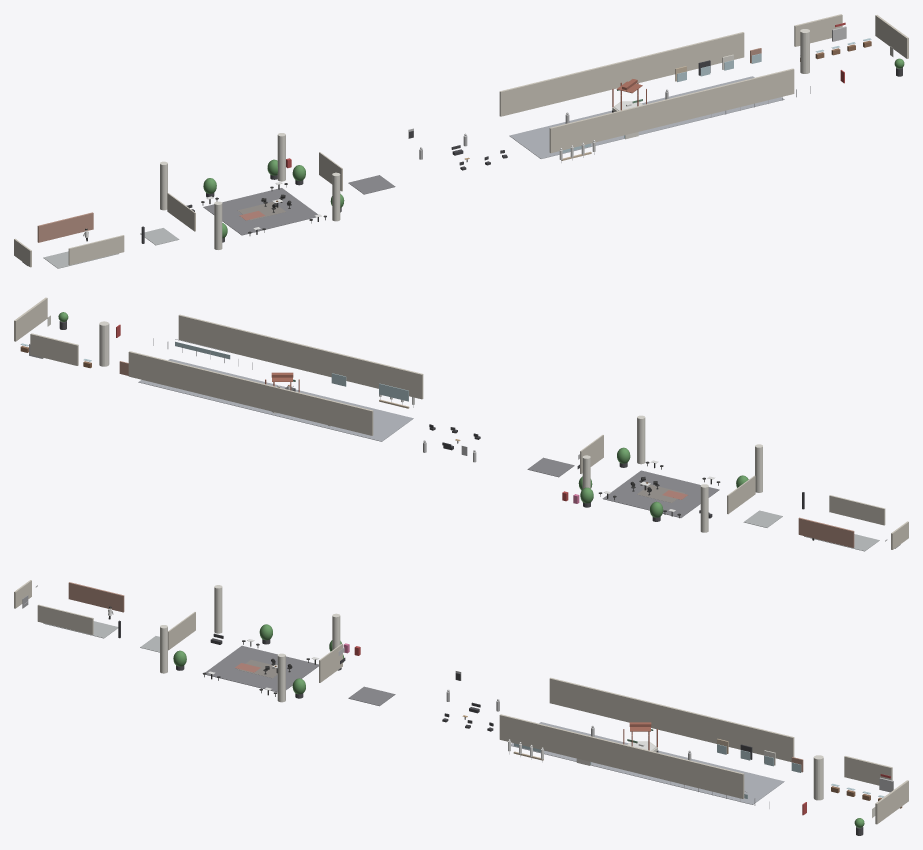
3 views of the same model, one above another, from view 1: azimuth 30°, elevation 25°; view 2: azimuth 150°, elevation 25°; view 3: azimuth 330°, elevation 25° (orthographic).
Visible parts, largest first — view 1: S03_south_wall, S03_north_wall, S02_floor, S03_floor, S01_white_wall, S01_brick_wall, S03_jewelry_wall, S03_jewelry_far_wall, S02_storefront_back, CORR_S2_S3; view 2: S03_north_wall, S03_south_wall, S03_floor, S02_floor, S03_jewelry_wall, S01_white_wall, S01_brick_wall, S03_jewelry_far_wall, S02_storefront_back, CORR_S2_S3; view 3: S03_south_wall, S03_north_wall, S02_floor, S03_floor, S01_white_wall, S01_brick_wall, S03_jewelry_wall, S03_jewelry_far_wall, S02_storefront_back, S02_sign_wall, CORR_S2_S3.
Part boxes in pixels (x1,y1,x2,y2): S03_south_wall: (549, 68, 794, 153); S03_north_wall: (499, 32, 744, 116); S02_floor: (203, 188, 317, 235); S03_floor: (509, 76, 784, 158); S01_white_wall: (68, 235, 124, 265); S01_brick_wall: (37, 212, 93, 242); S03_jewelry_wall: (794, 14, 842, 46); S03_jewelry_far_wall: (875, 15, 908, 58); S02_storefront_back: (167, 193, 195, 231); CORR_S2_S3: (348, 175, 395, 194); S03_north_wall: (128, 351, 373, 435); S03_south_wall: (178, 314, 423, 399); S03_floor: (138, 359, 413, 441); S02_floor: (602, 470, 719, 517); S03_jewelry_wall: (30, 333, 78, 365); S01_white_wall: (829, 495, 885, 525); S01_brick_wall: (798, 517, 854, 547); S03_jewelry_far_wall: (14, 297, 47, 341); S02_storefront_back: (727, 475, 755, 514); CORR_S2_S3: (527, 457, 574, 477); S03_south_wall: (499, 714, 744, 798); S03_north_wall: (549, 677, 794, 761); S02_floor: (205, 645, 318, 692); S03_floor: (511, 722, 784, 804); S01_white_wall: (37, 604, 93, 634); S01_brick_wall: (68, 582, 124, 612); S03_jewelry_wall: (844, 756, 892, 785); S03_jewelry_far_wall: (875, 780, 908, 824); S02_storefront_back: (168, 612, 195, 650); S02_sign_wall: (319, 643, 342, 682); CORR_S2_S3: (348, 686, 395, 706).
Bounding box in the file's own units: 111 × 5.75 × 14.25.
